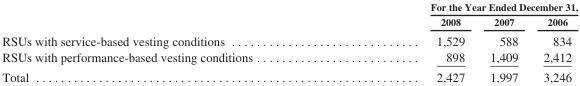table: (1, 0, 577, 83)
table column: (1, 0, 340, 83), (340, 0, 476, 83), (476, 0, 530, 83), (530, 0, 577, 83)
table column header: (1, 0, 577, 30)
table row: (1, 30, 577, 48), (1, 48, 577, 66), (1, 66, 577, 83), (1, 14, 577, 30), (1, 0, 577, 14)
table spanning cell: (340, 0, 577, 14)
